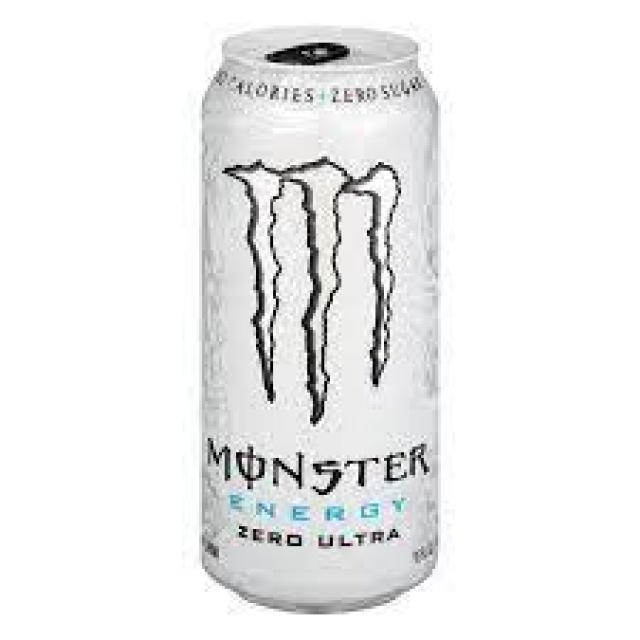Cans: (191, 15, 449, 620)
